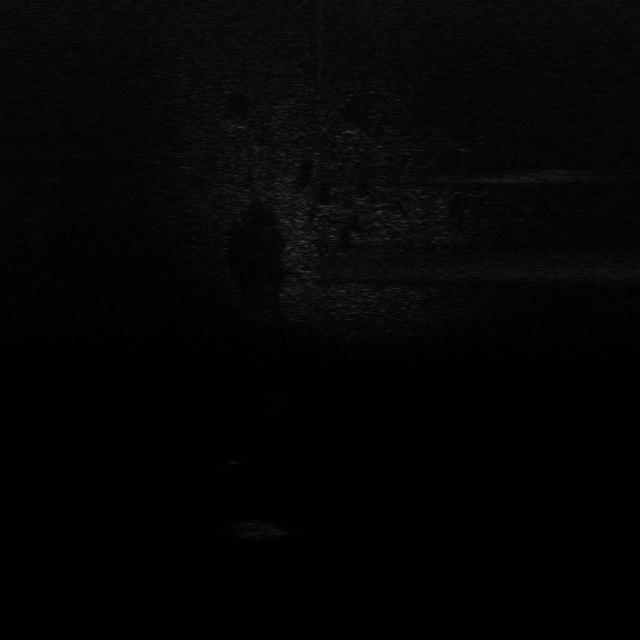ball: (213, 453, 249, 471)
circle cage: (230, 516, 290, 541)
human body: (262, 390, 287, 424)
